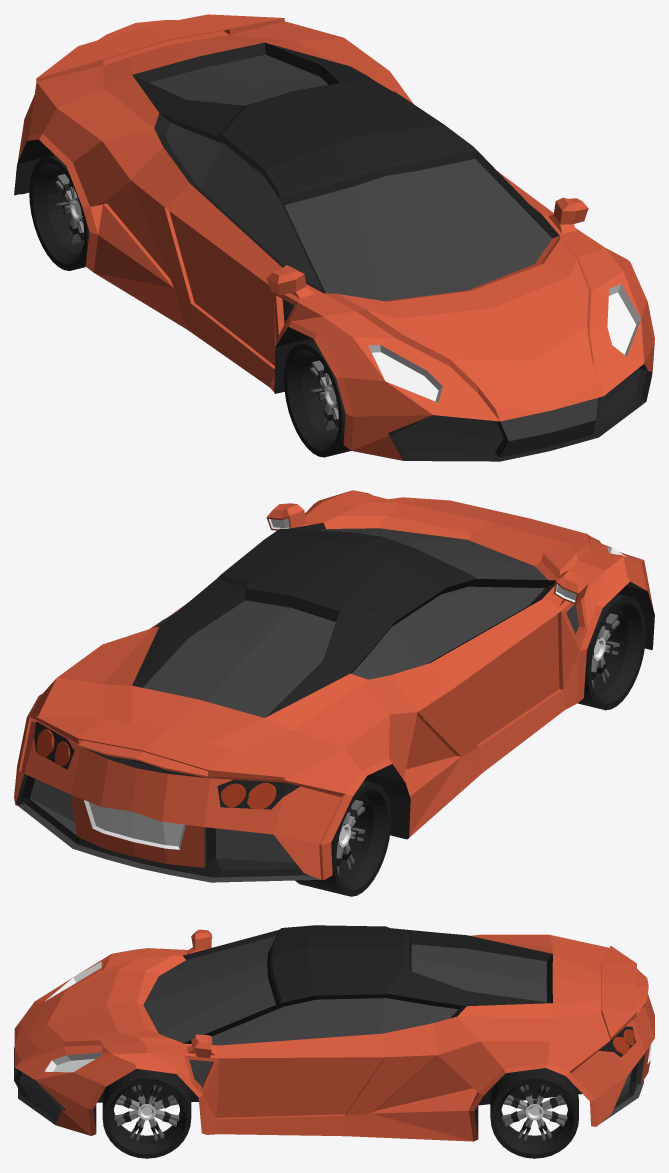
File: arrinerahussarya.fbx
The picture shows the model from 3 angles, top to bottom: view 1: azimuth 30°, elevation 25°; view 2: azimuth 150°, elevation 25°; view 3: azimuth 270°, elevation 25°; orthographic projection. The views are drawn at different scales.
Visible parts, largest first — view 1: RedBody, FrontRight, BackRight; view 2: RedBody, FrontRight, BackRight; view 3: RedBody, BackLeft, FrontLeft.
Part boxes in pixels (x1,y1,x2,y2): RedBody: (14,14,654,461); FrontRight: (284,340,350,457); BackRight: (29,155,89,270); RedBody: (14,490,654,882); FrontRight: (577,594,645,710); BackRight: (295,781,391,896); RedBody: (14,925,654,1141); BackLeft: (490,1068,578,1158); FrontLeft: (102,1068,191,1158).
Size of the model in its own units: 2 by 4.44 by 1.18.
